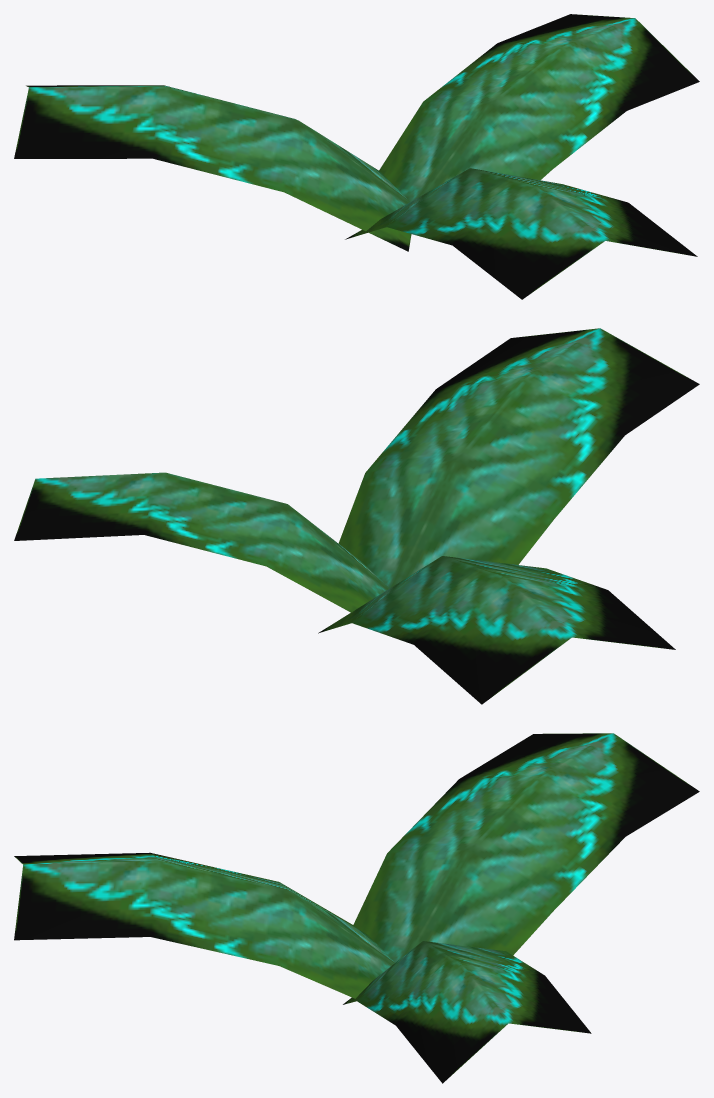
Rendered from INST_EKH_3LEAF_PLANT_01.fbx.
3 views of the same model, one above another, from view 1: azimuth 30°, elevation 25°; view 2: azimuth 150°, elevation 25°; view 3: azimuth 270°, elevation 25° (orthographic). The views are drawn at different scales.
Parts seen in each view (by area): view 1: INST_EKH_3LEAF_PLANT_01; view 2: INST_EKH_3LEAF_PLANT_01; view 3: INST_EKH_3LEAF_PLANT_01.
Part boxes in pixels (x1,y1,x2,y2): INST_EKH_3LEAF_PLANT_01: (14,14,699,299); INST_EKH_3LEAF_PLANT_01: (14,328,699,704); INST_EKH_3LEAF_PLANT_01: (14,733,699,1083).
Bounding box in the file's own units: 10901 × 2222 × 10333.
1 material, 1 textured.
